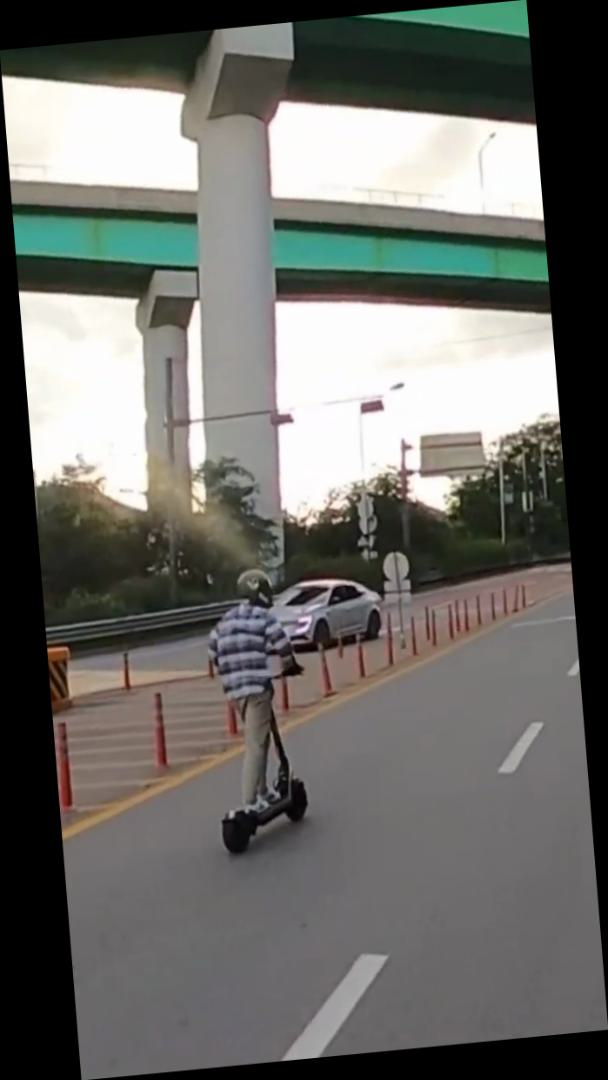helmet: (196, 563, 318, 854)
